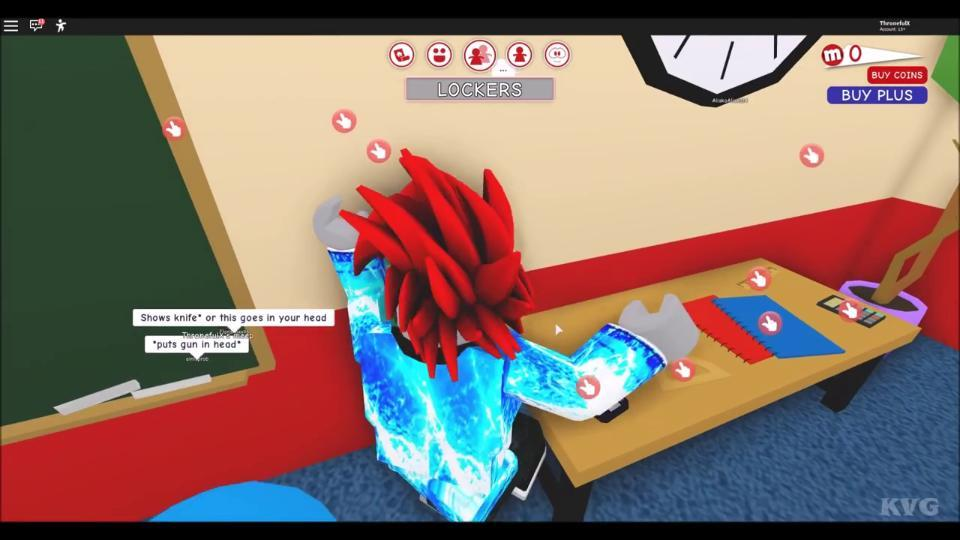Character: (313, 148, 701, 522)
